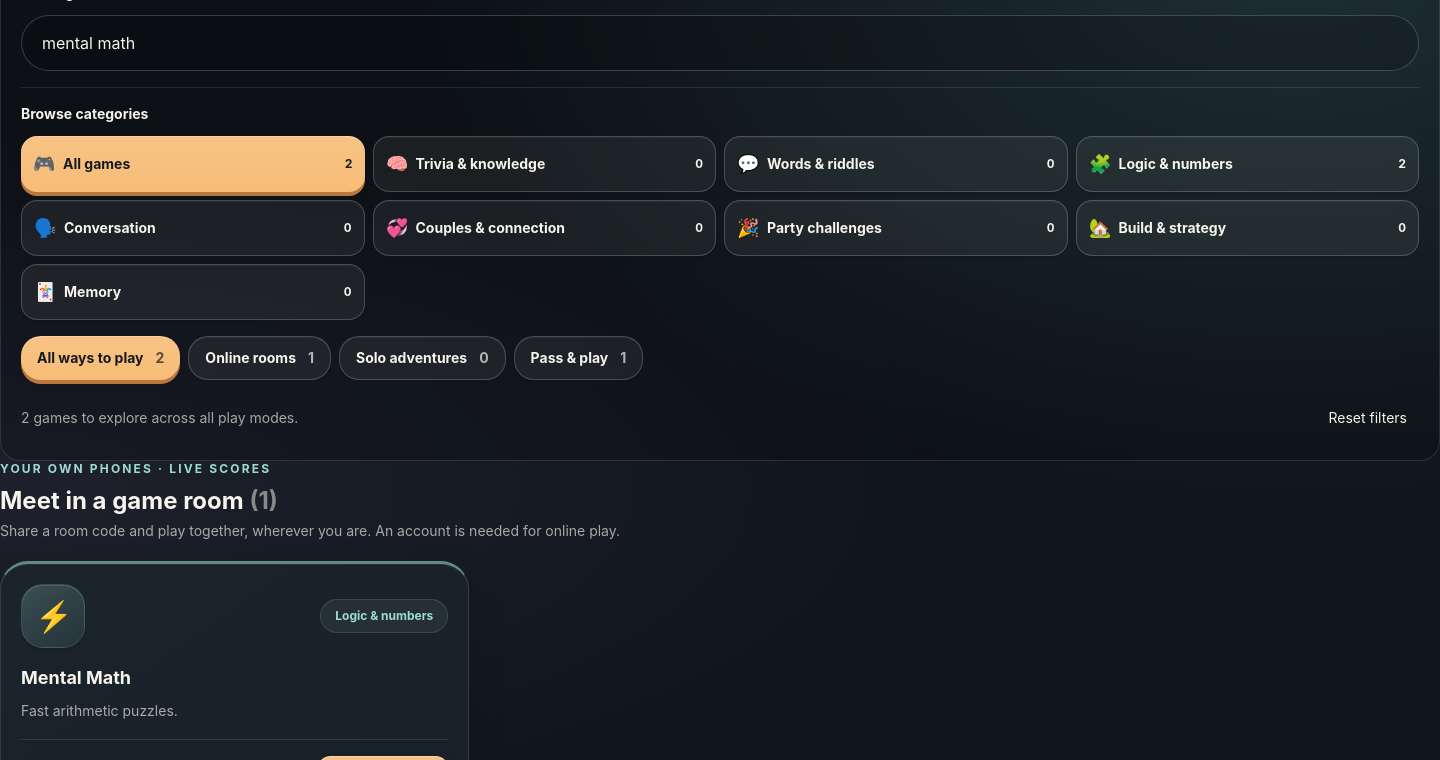
it: navigation search initializes both catalogs and can be cleared without losing games
Click the button "Reset filters" at (1368, 418), box [1316,396,1419,440]
(page scrolled)
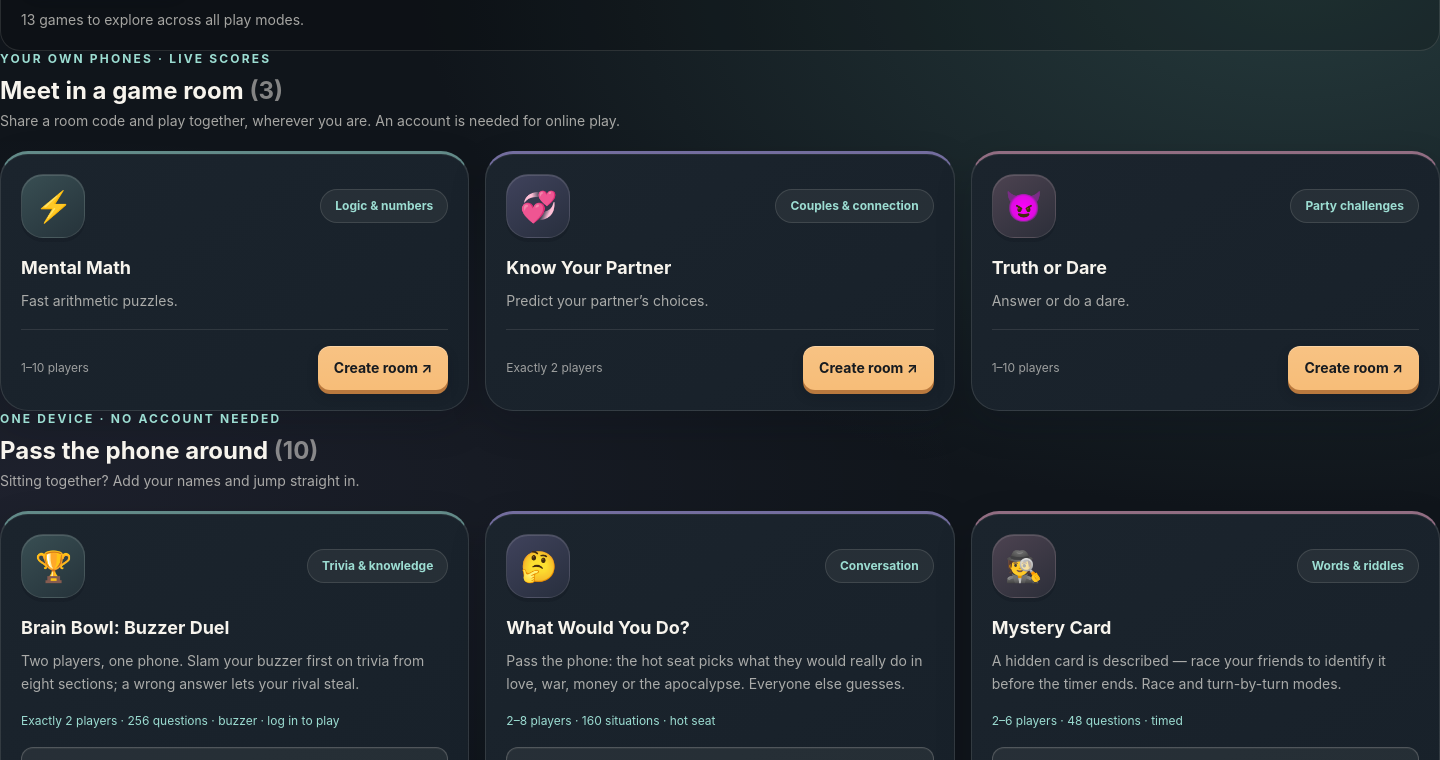
Result: the link with aria-label "Create Truth or Dare room" is shown at [1288,346,1419,390]
